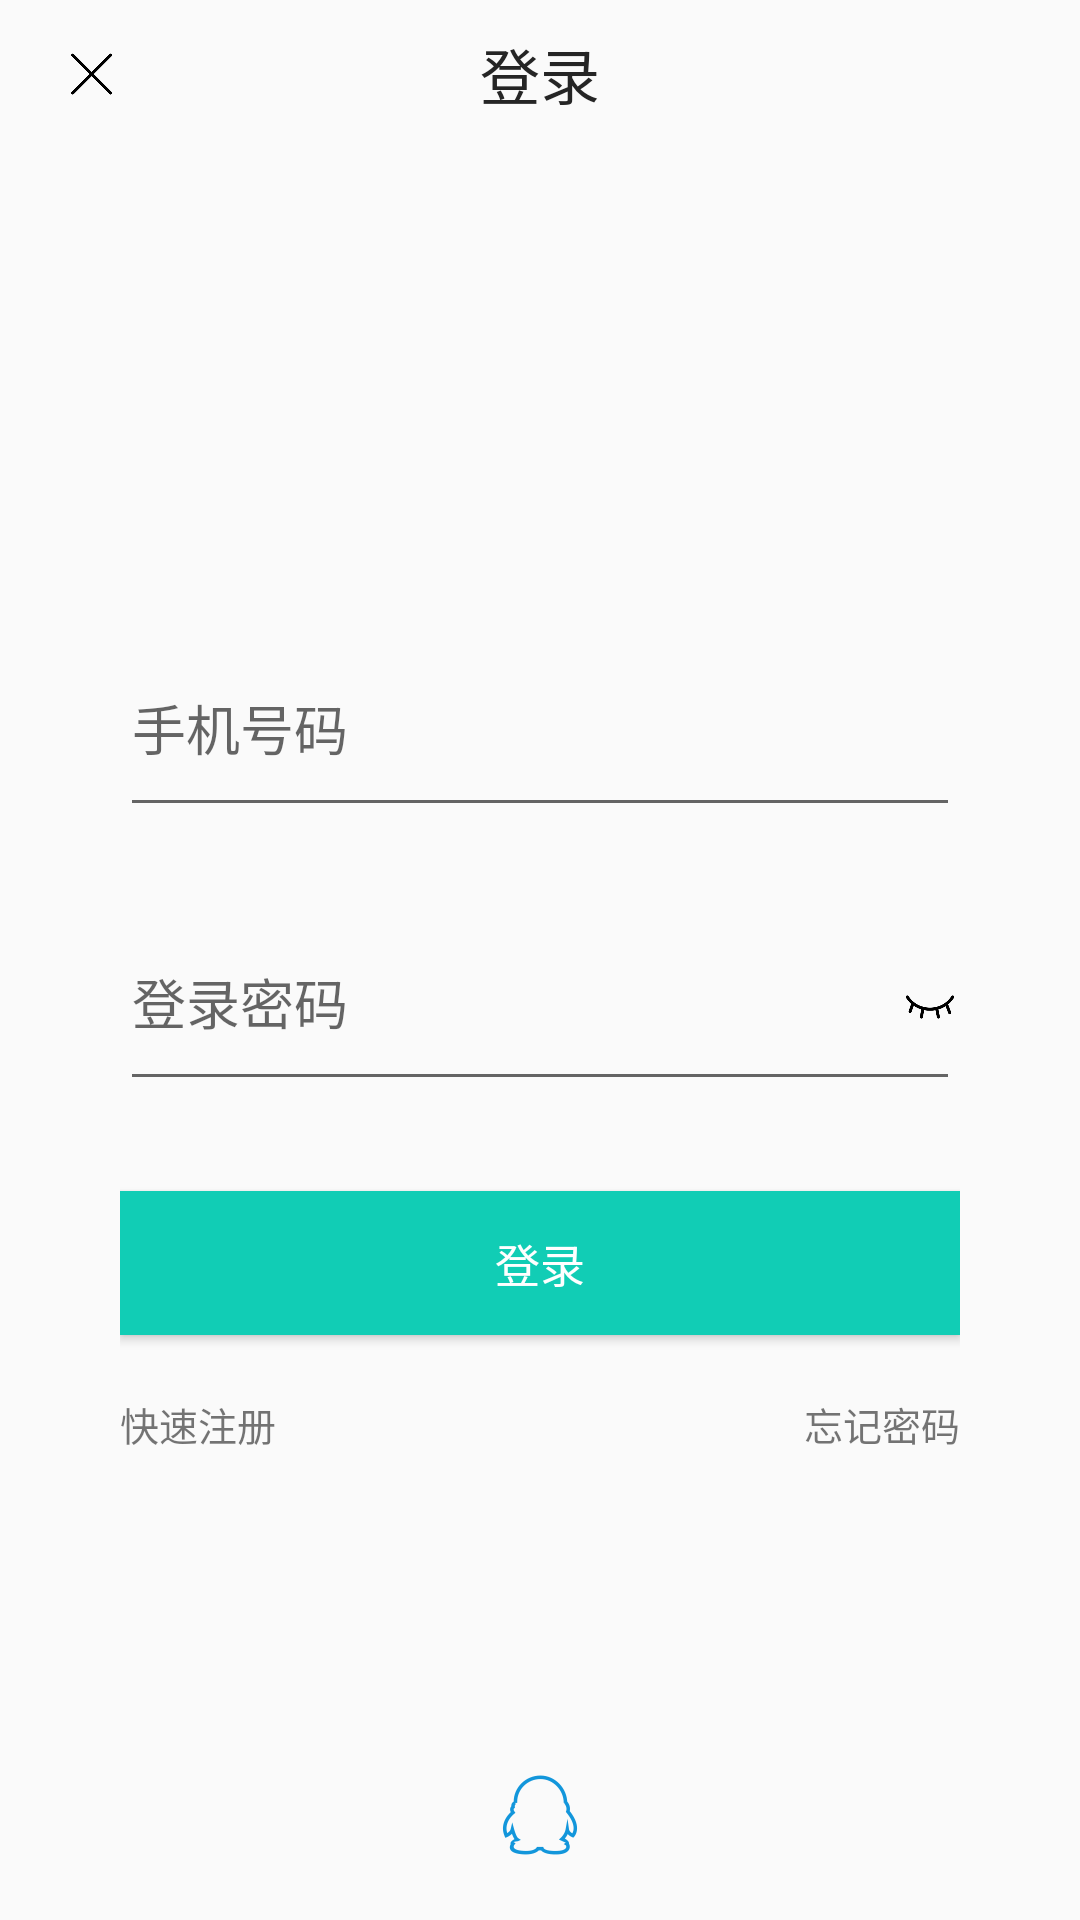

Screen size 1080×1920. Icon name, then its center in pixels as [x,y]:
cancel: [91,74]
